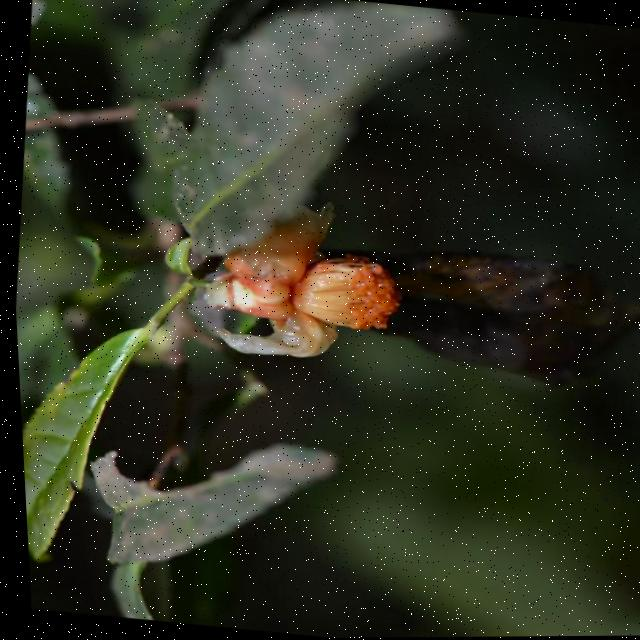Tea algae leaf spot: (159, 11, 377, 259), (69, 426, 315, 578)
